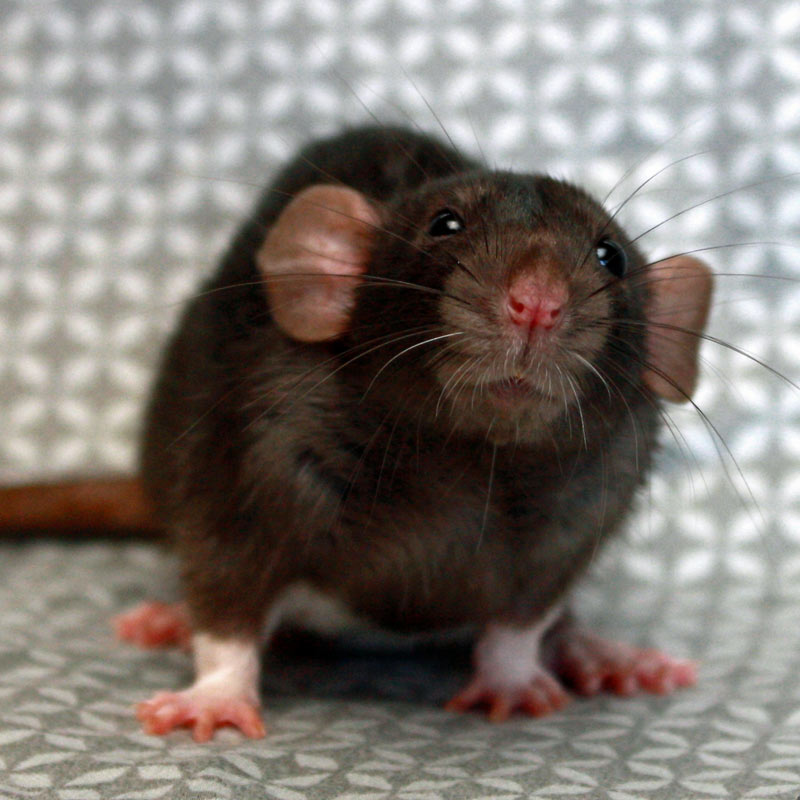Rat: (110, 100, 735, 776)
